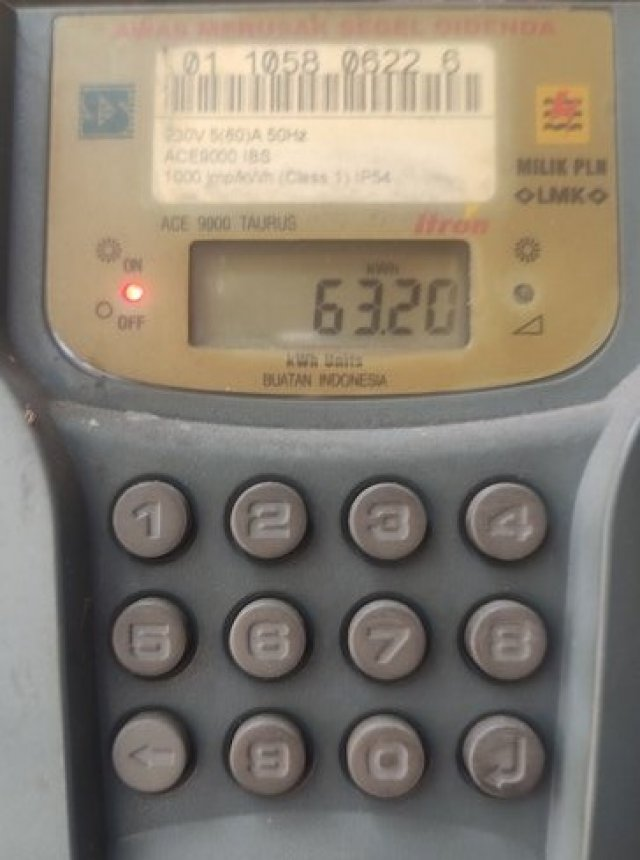box: (188, 238, 471, 353)
